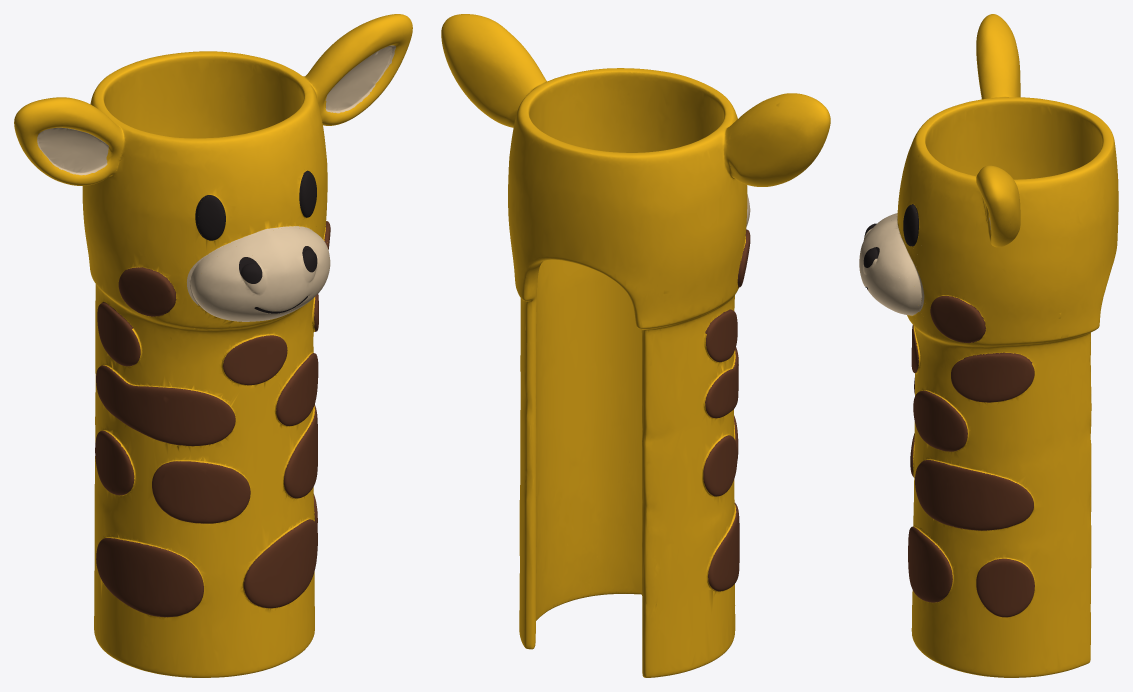
File: girafoscopio.glb
3 views of the same model, side by side, from view 1: azimuth 30°, elevation 25°; view 2: azimuth 150°, elevation 25°; view 3: azimuth 270°, elevation 25° (orthographic). The views are drawn at different scales.
Visible parts, largest first — view 1: girafoscopio; view 2: girafoscopio; view 3: girafoscopio.
Part boxes in pixels (<box>): girafoscopio: <box>14,14,412,677</box>; girafoscopio: <box>441,14,830,677</box>; girafoscopio: <box>859,14,1118,677</box>.
Bounding box in the file's own units: 1.3 × 1.84 × 0.7988.
